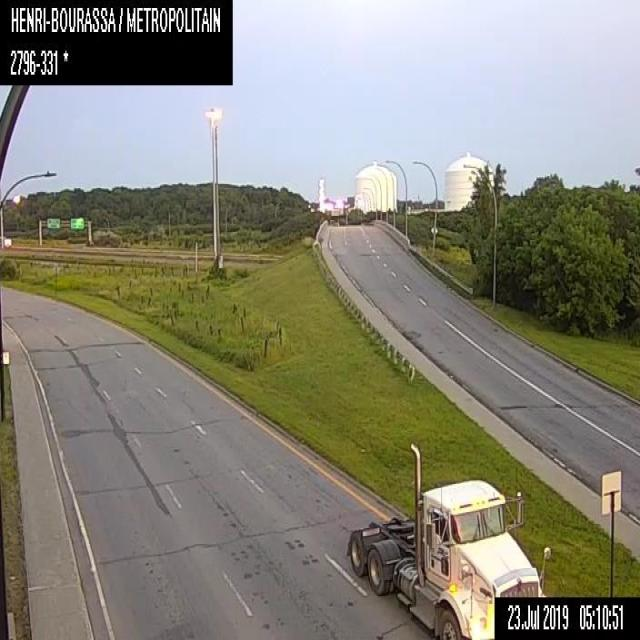vehicle: (344, 440, 552, 639)
